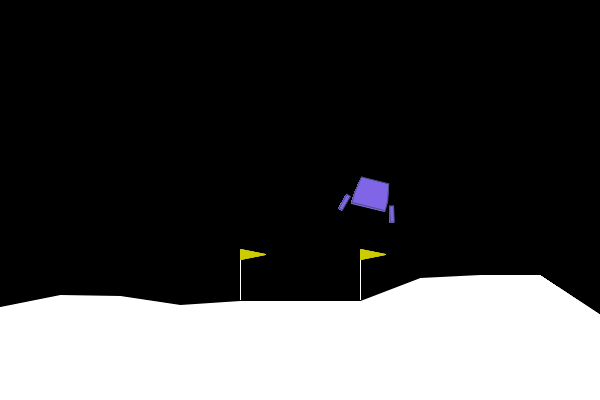lander: (336, 172, 404, 225)
